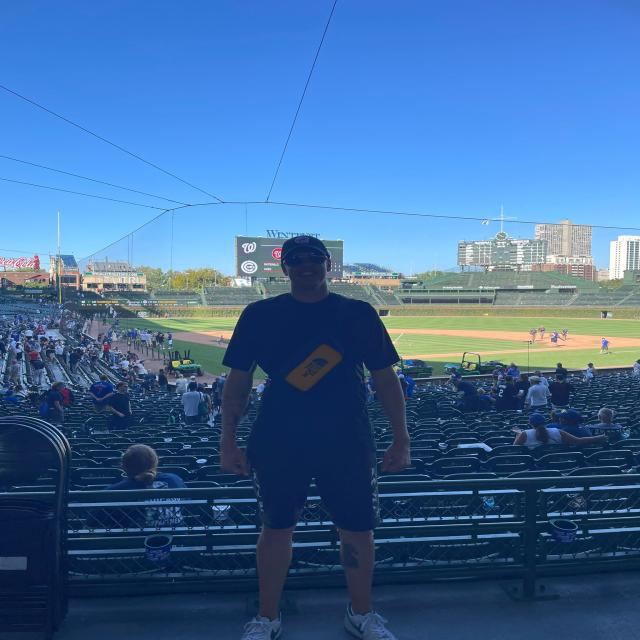JeremiasDiaz: (281, 240, 332, 290)
